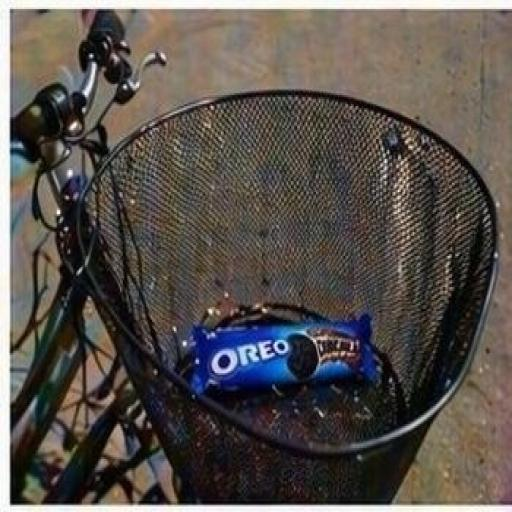oreo: (133, 254, 454, 462)
